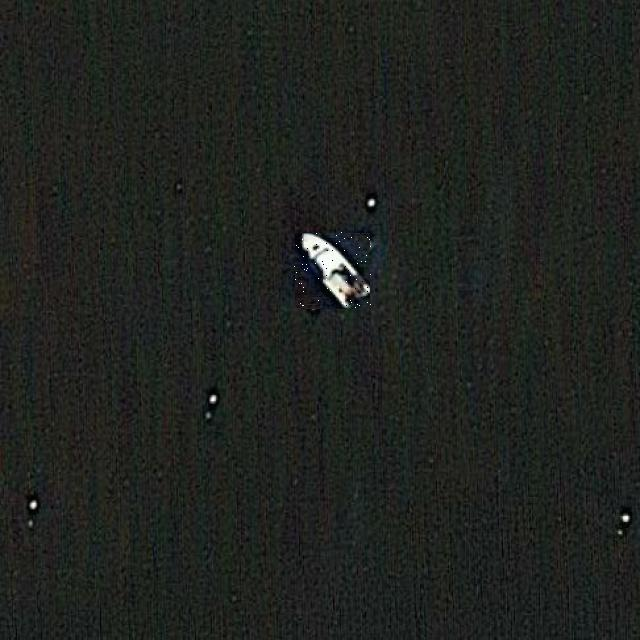boat: (294, 232, 371, 308)
